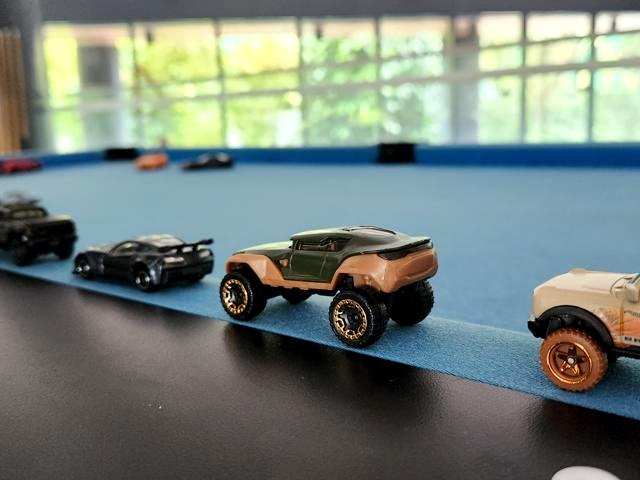toy-car: (219, 225, 439, 349), (528, 267, 640, 391), (71, 234, 214, 293), (1, 202, 78, 266)
